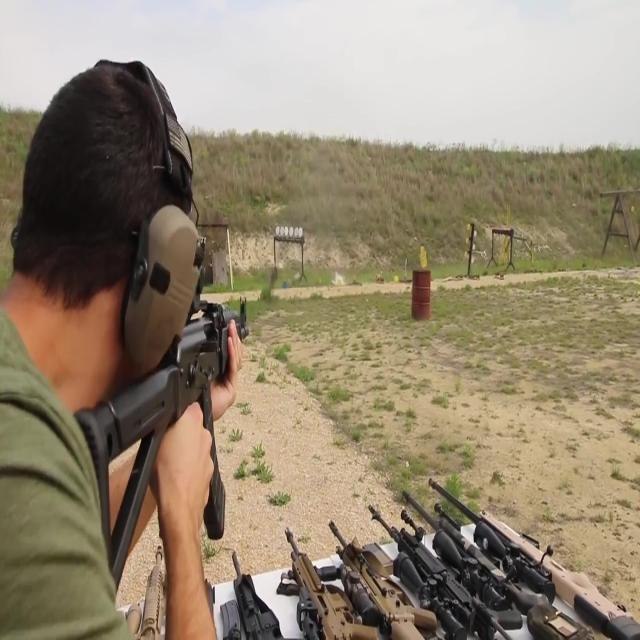Weapon: (78, 378, 640, 640), (16, 183, 281, 586)
